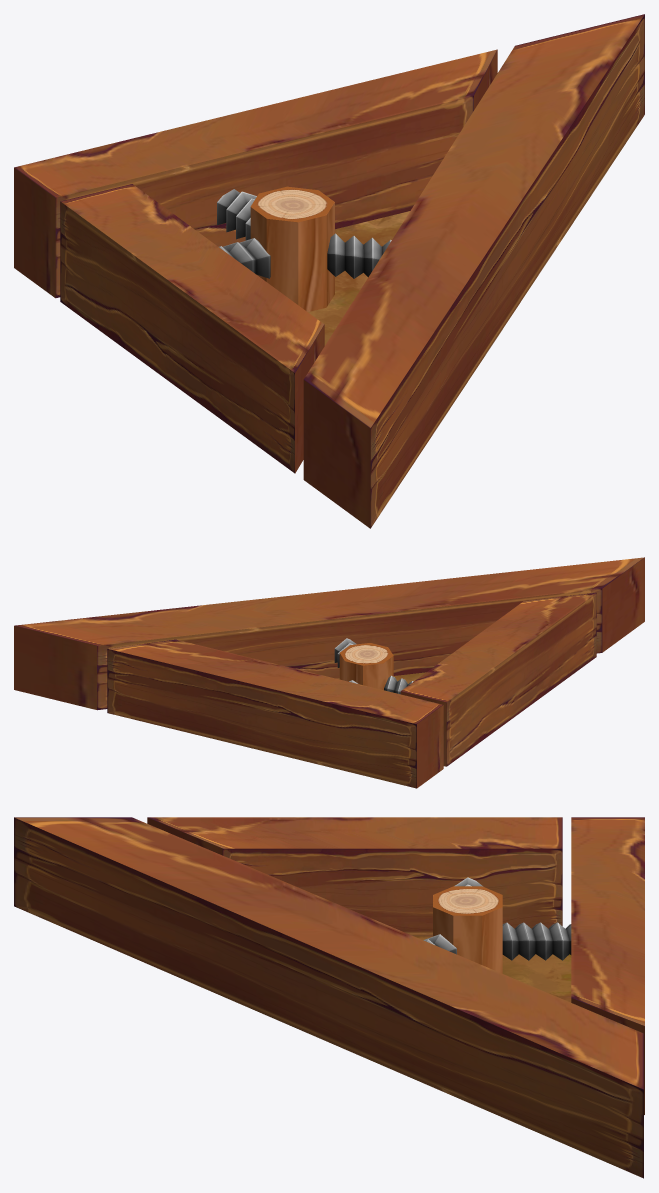
The model's file is triangle_wood_03.fbx.
The picture shows the model from 3 angles, top to bottom: view 1: azimuth 30°, elevation 25°; view 2: azimuth 150°, elevation 25°; view 3: azimuth 270°, elevation 25°; orthographic projection. The views are drawn at different scales.
Parts seen in each view (by area): view 1: wall_73, wall_74, wall_75, Middle_10, floor_4, spring_7, spring_8, spring_9; view 2: wall_73, wall_74, wall_75, Middle_10; view 3: wall_73, wall_75, wall_74, Middle_10, spring_8, floor_4.
Boxes of the visible parts, left/top/right/bottom form: wall_73: left=303, top=14, right=644, bottom=528; wall_74: left=14, top=49, right=497, bottom=298; wall_75: left=60, top=184, right=324, bottom=473; Middle_10: left=250, top=186, right=334, bottom=311; floor_4: left=308, top=211, right=409, bottom=345; spring_7: left=327, top=233, right=391, bottom=278; spring_8: left=217, top=189, right=256, bottom=240; spring_9: left=219, top=238, right=270, bottom=278; wall_73: left=14, top=557, right=644, bottom=710; wall_74: left=107, top=639, right=443, bottom=788; wall_75: left=400, top=592, right=596, bottom=766; Middle_10: left=339, top=643, right=393, bottom=690; wall_73: left=14, top=817, right=643, bottom=1178; wall_75: left=147, top=817, right=562, bottom=936; wall_74: left=571, top=817, right=644, bottom=1114; Middle_10: left=433, top=886, right=502, bottom=973; spring_8: left=502, top=922, right=571, bottom=960; floor_4: left=415, top=936, right=571, bottom=1002.
Bounding box in the file's own units: 263 × 40 × 257.
